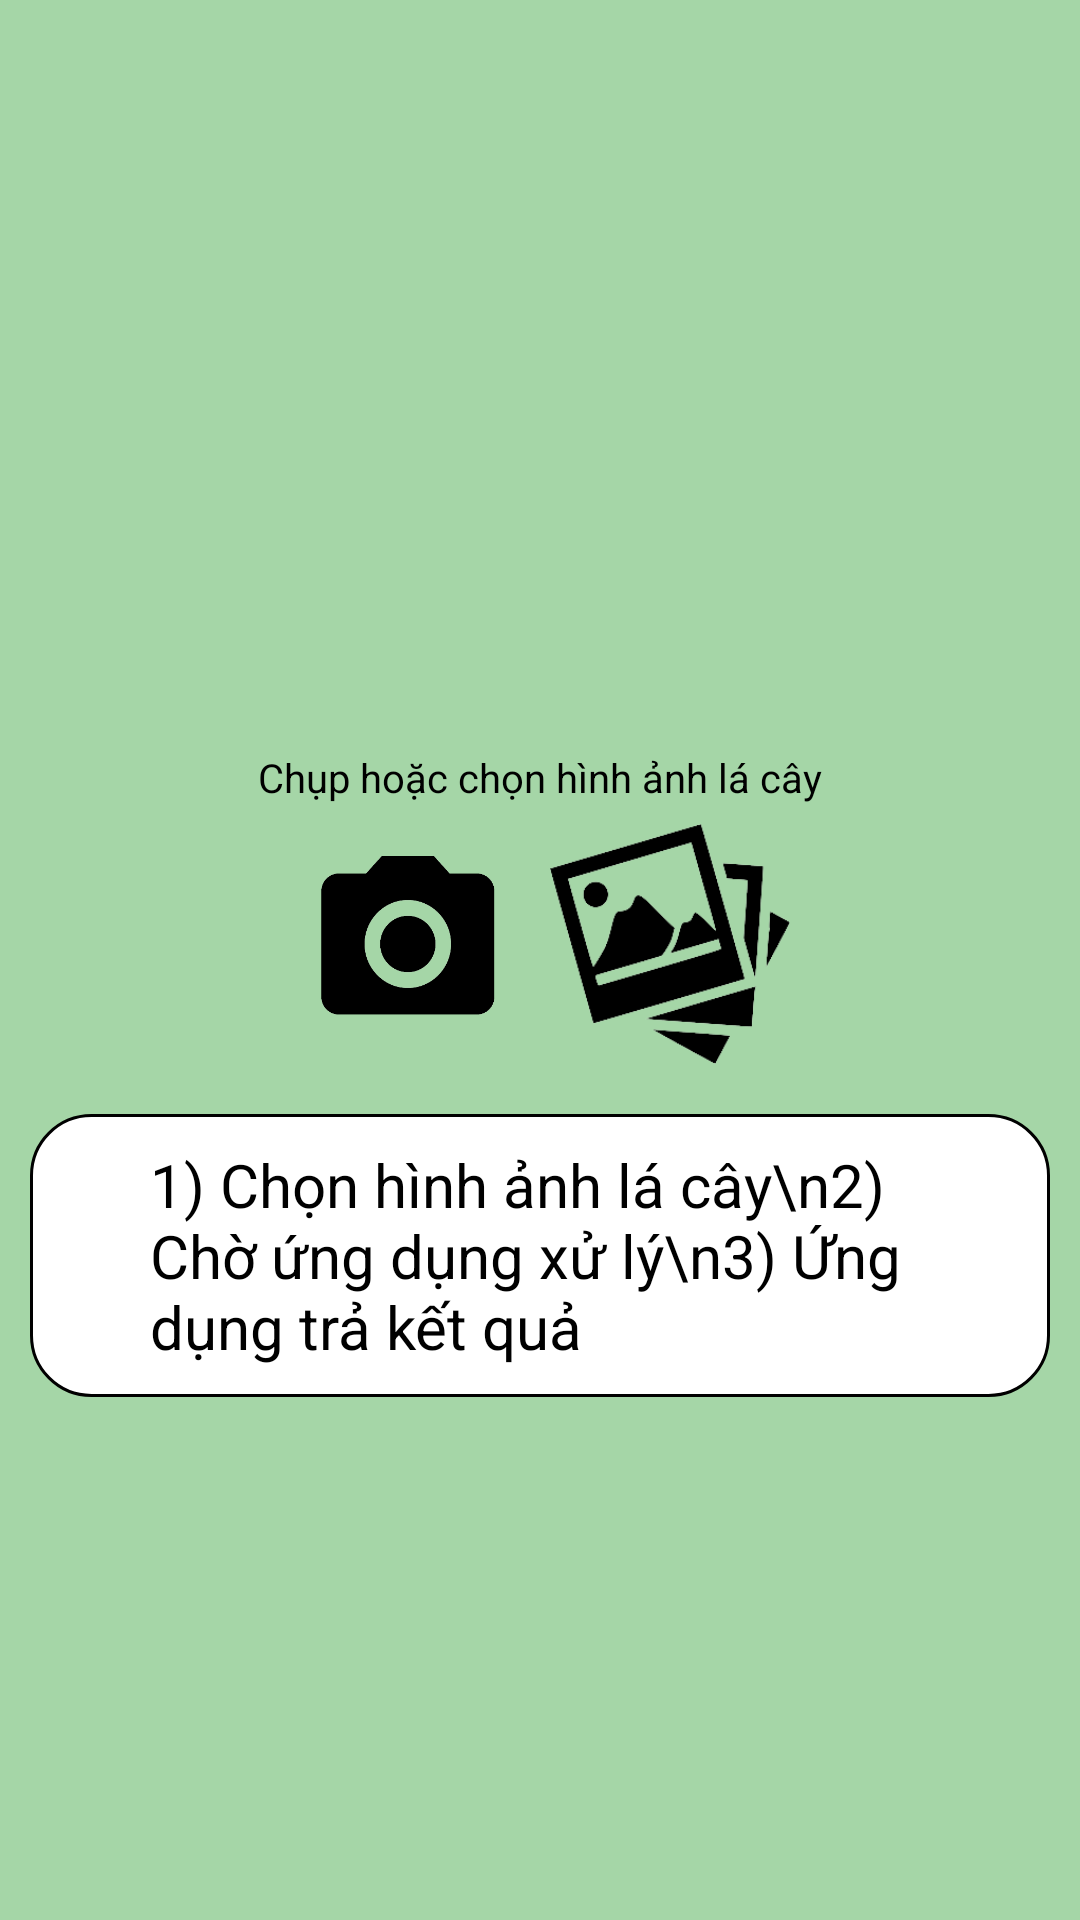

Locate icon controls on the screen. Image size 1080 x 1920, boxes as [x1,y1,x2,y2].
iconcamera: [321,856,495,1015]
icongallery: [550,824,790,1064]
